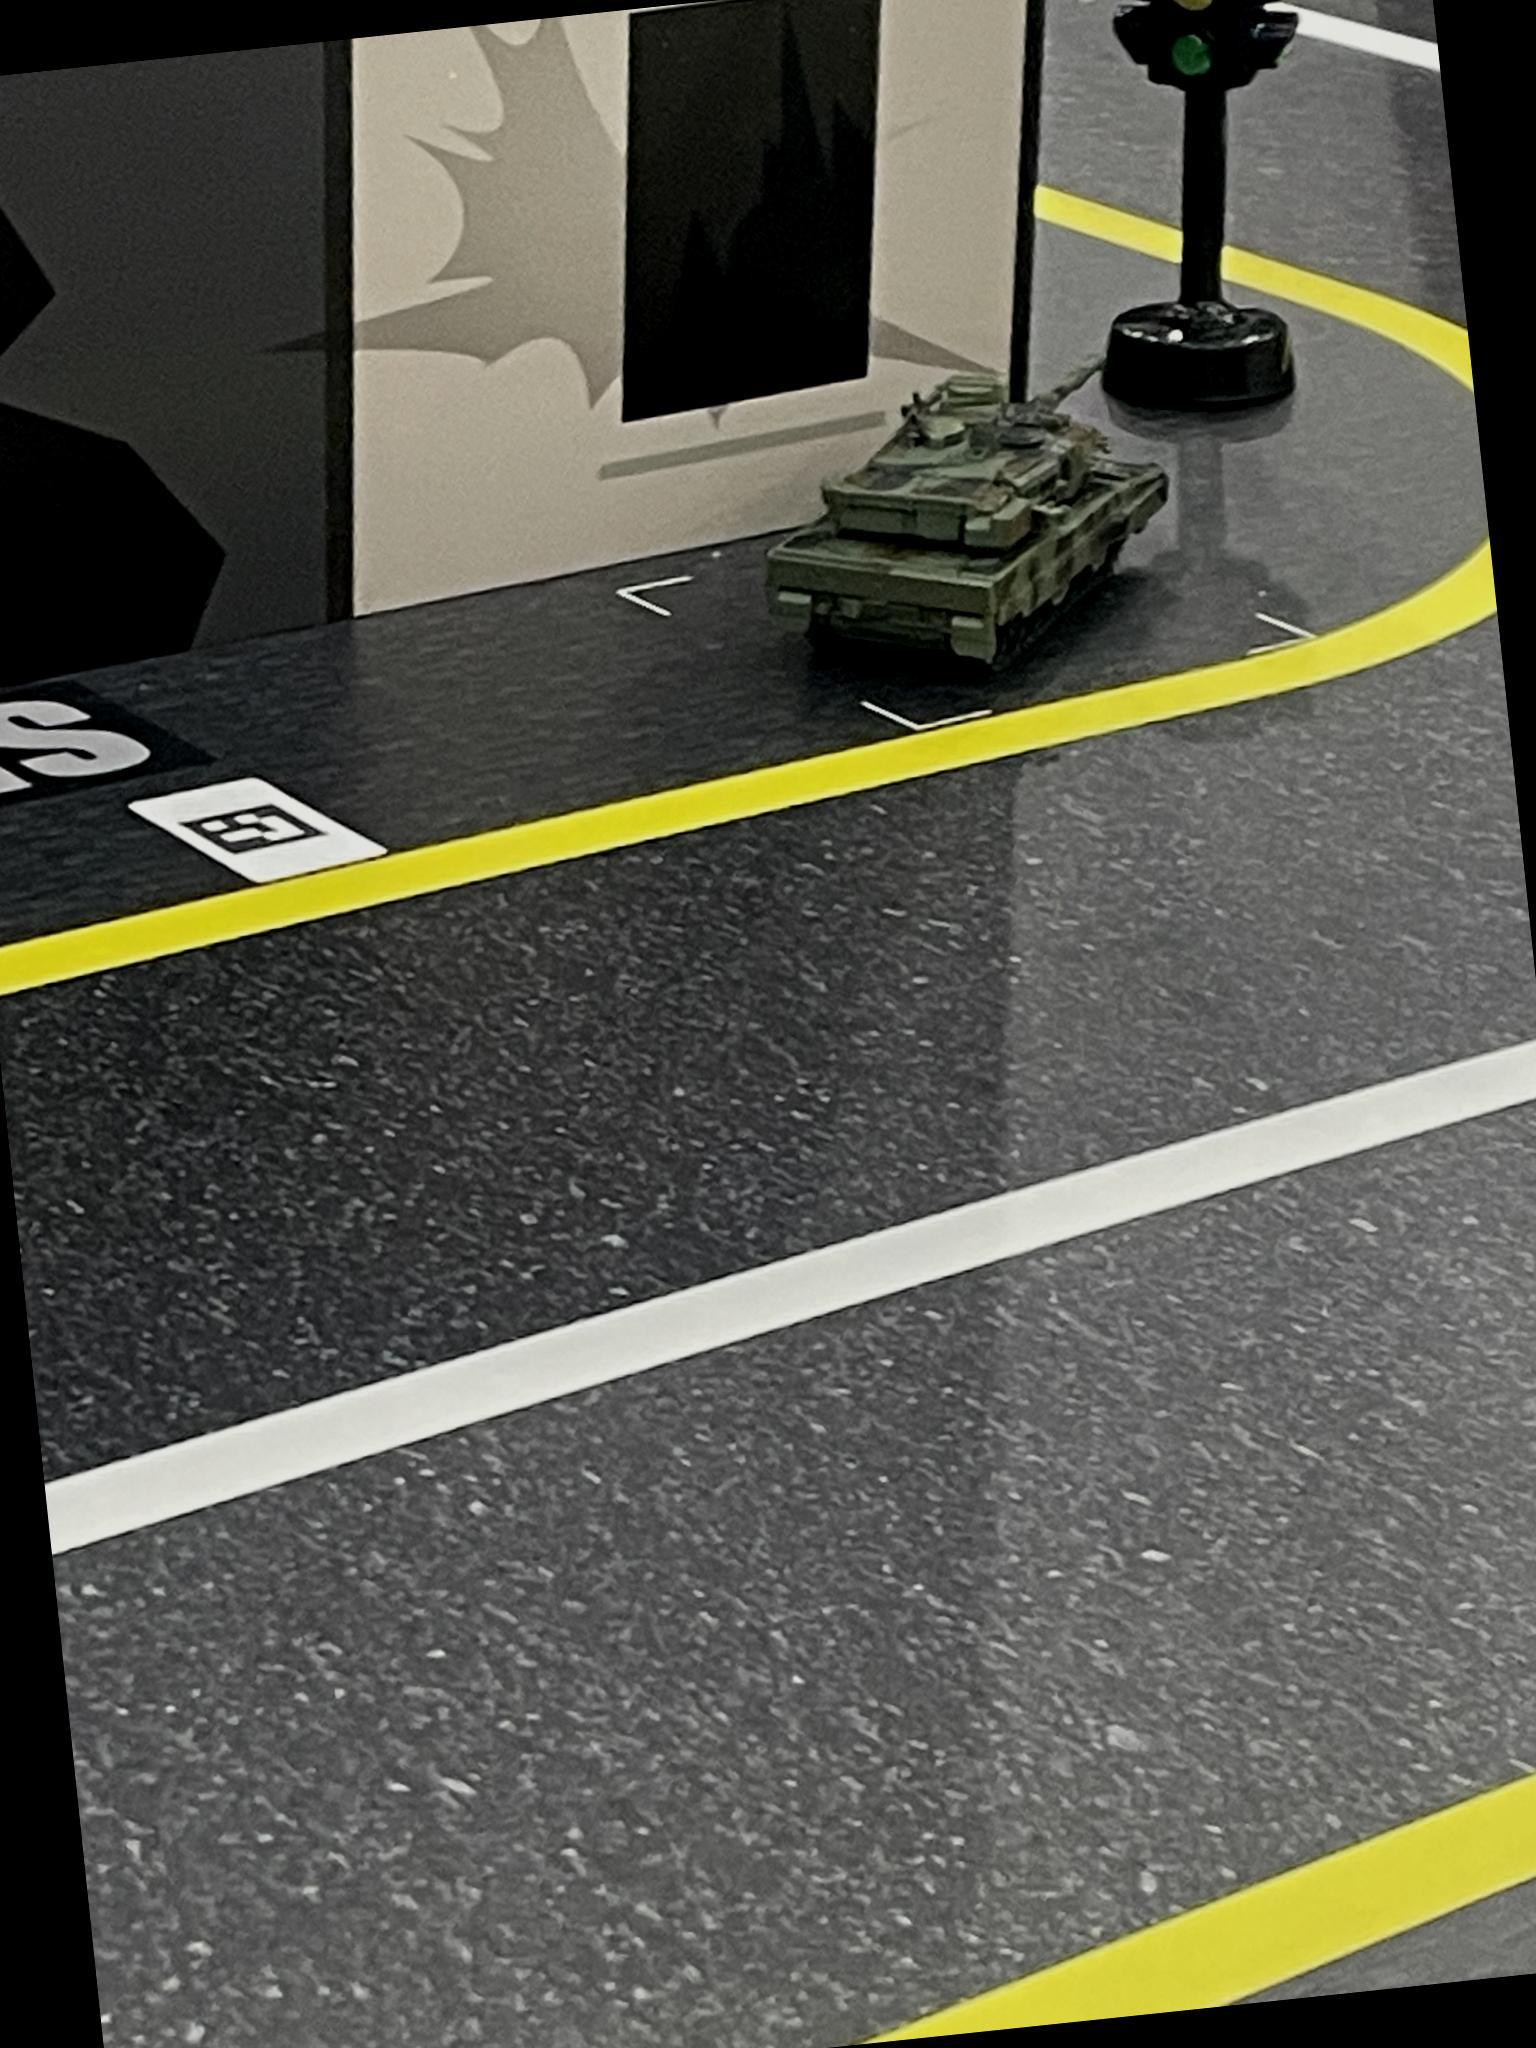Tank: (739, 326, 1194, 710)
